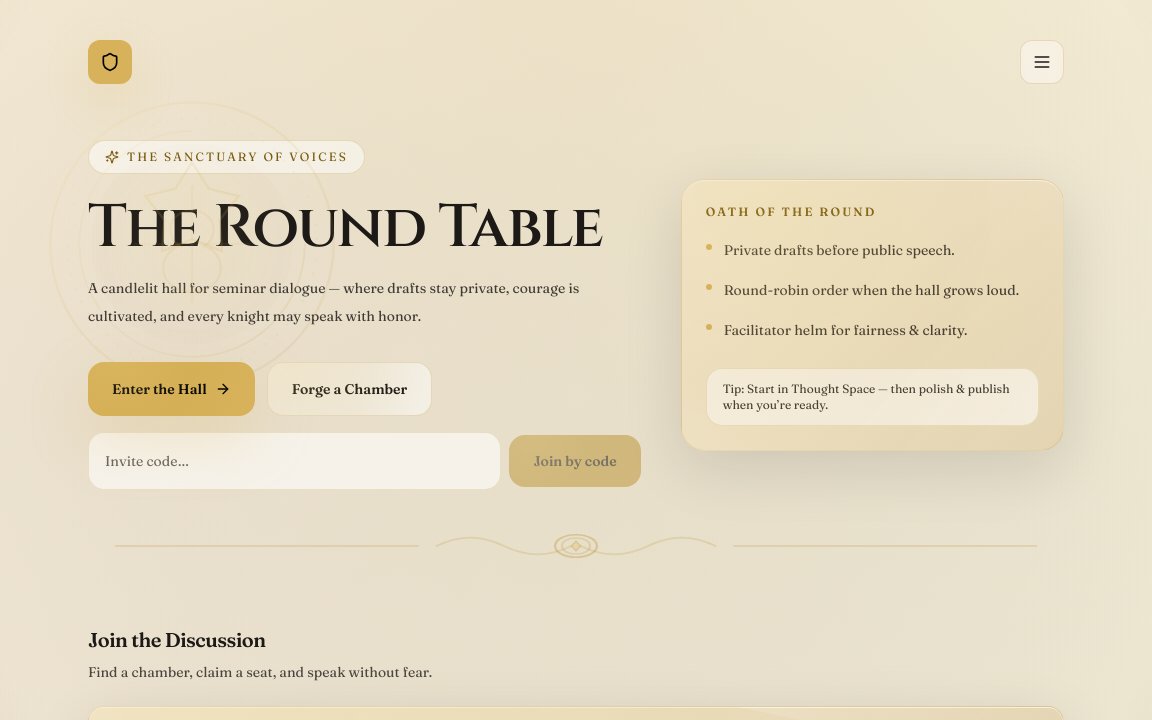
Test: menu button opens side drawer navigation
Click the button named "menu": (1042, 62) [1020, 40, 1064, 84]
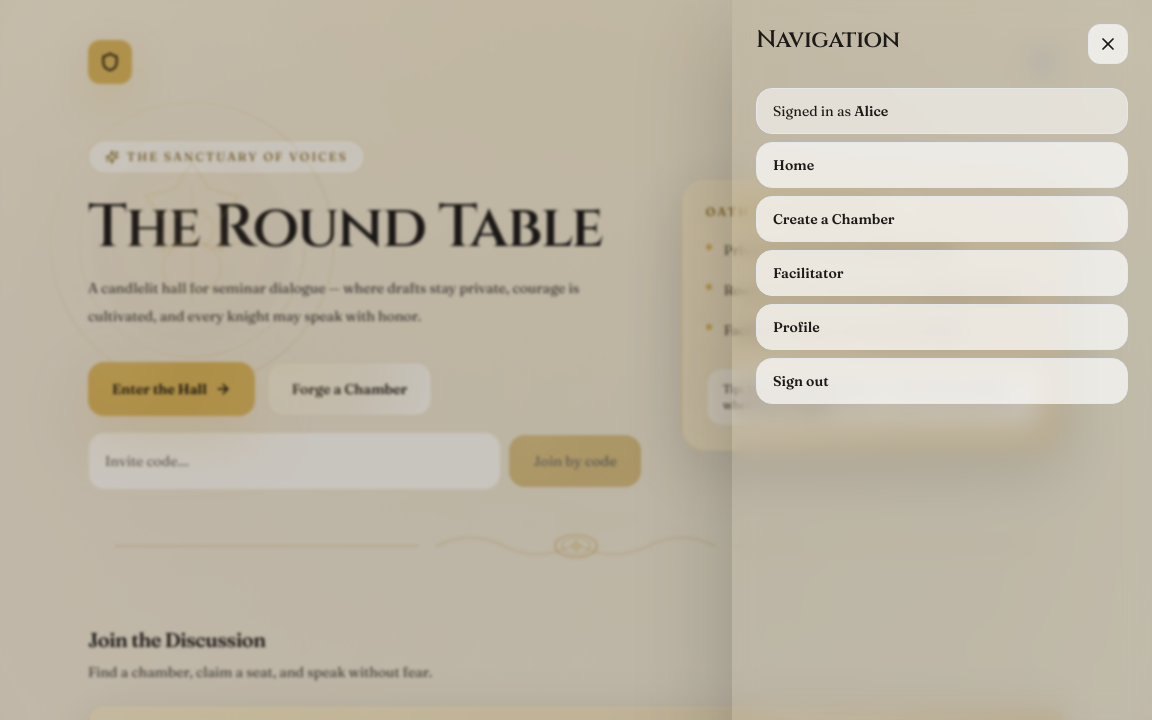
Expected: the heading "Navigation" is shown, [756, 24, 900, 56]
Expected: the link "Home" is shown, [756, 142, 1128, 188]
Expected: the link "Create a Chamber" is shown, [756, 196, 1128, 242]
